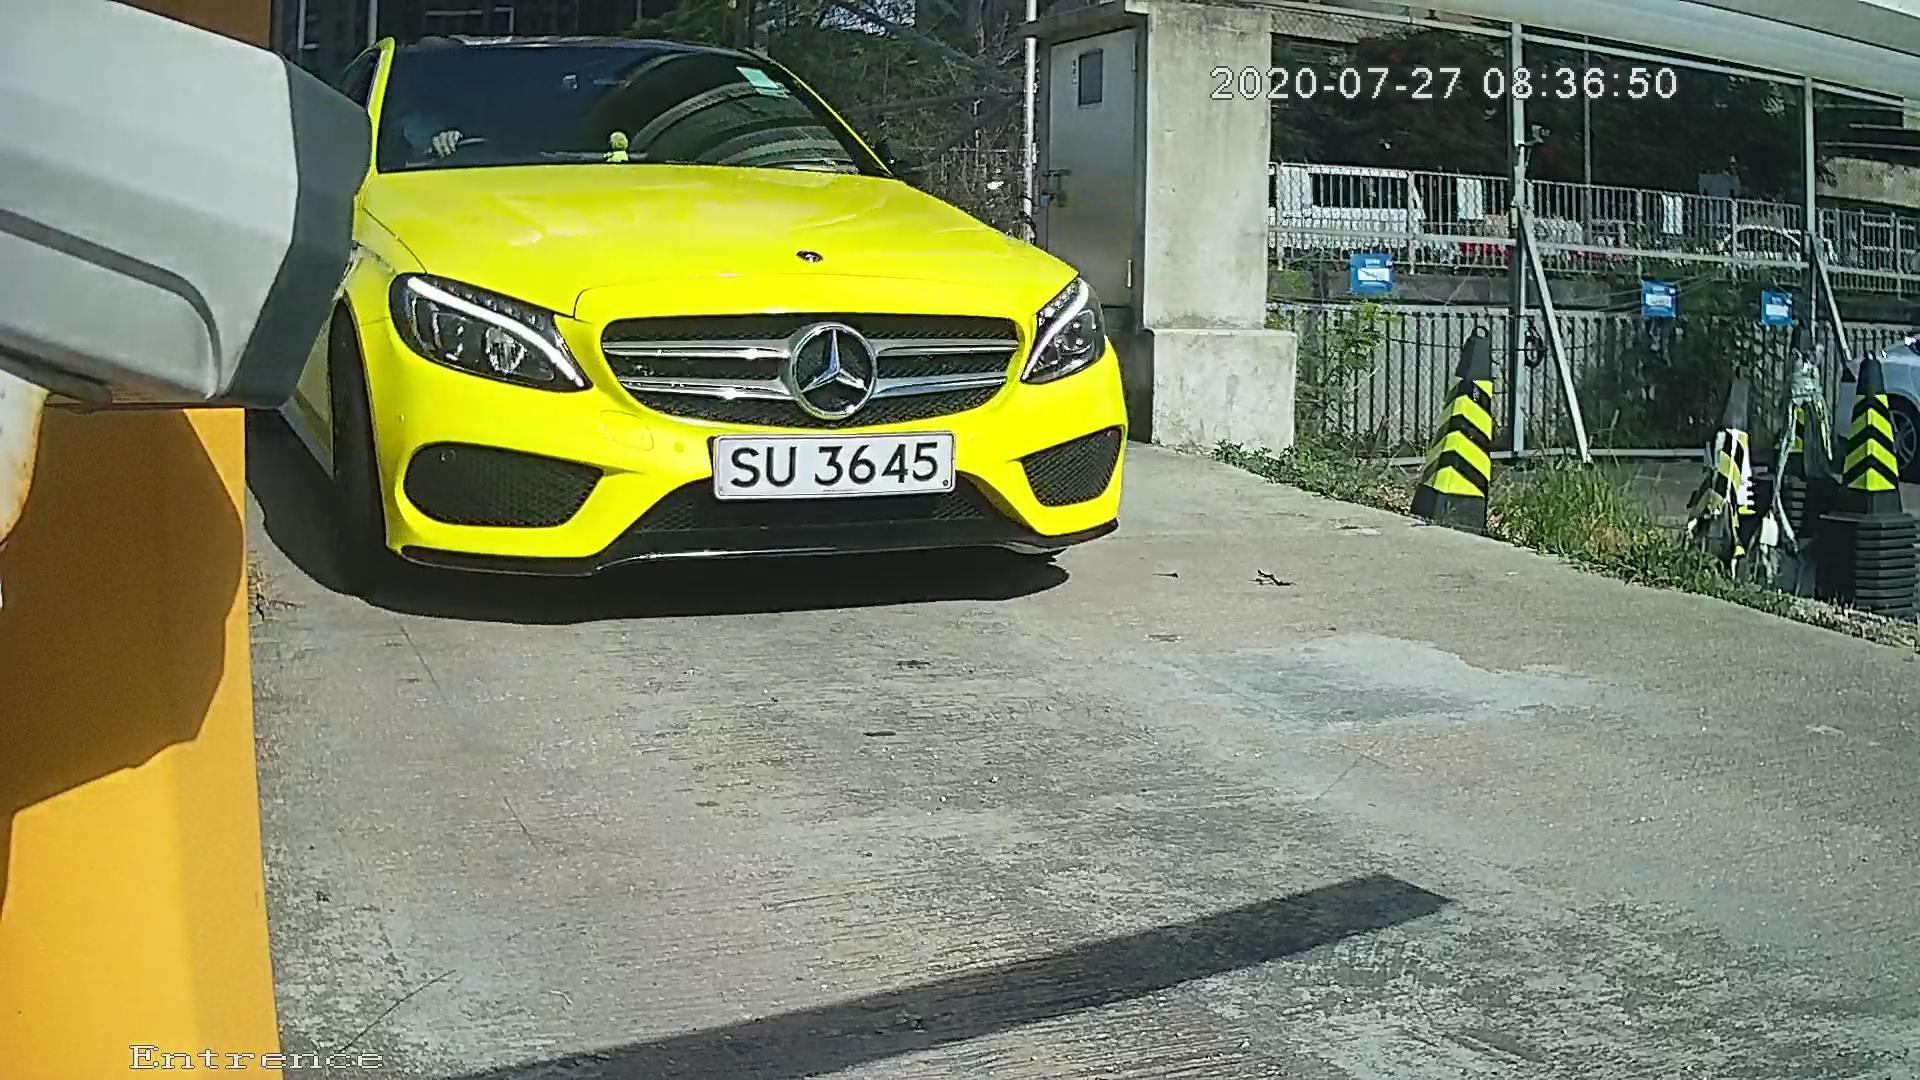Car: (52, 20, 1201, 680)
License Plate: (669, 425, 952, 507)
